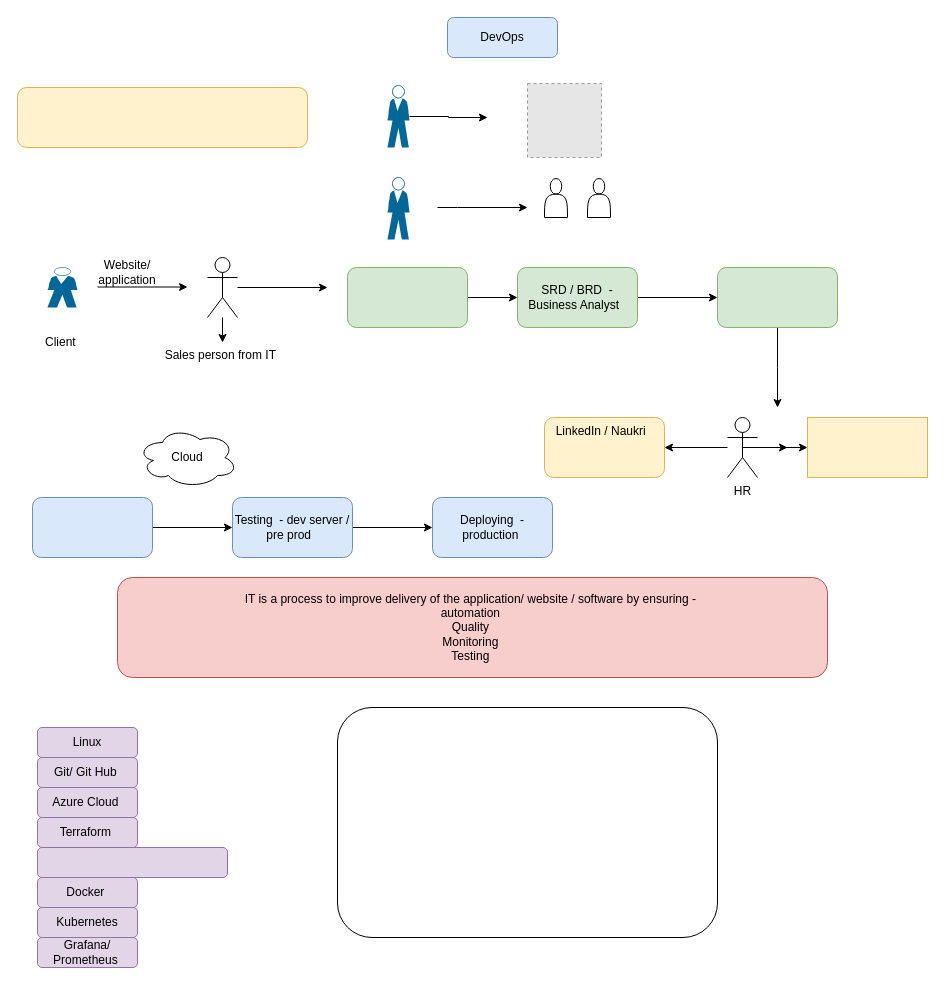
This 945x985 diagram has some shape labels left out. Grey dashed boxes stand in for pictures. The centre of each missing label's shape, as x and y in pixels:
any IT Company - improvise the other industry through automation: the point at 162,117
CI/ CD Pipeline - Jenkins . Azure Devops: the point at 132,862
Developer - code likhega: the point at 92,527
Devlopers , Devops Engineer , Data Engineers: the point at 867,447
DevOps - google/ Chat GPT Tools needed for Devops Job profiles Draw.io: the point at 527,822
HLD / LLD: the point at 777,297
Project Manager/ Product Manager: the point at 407,297
